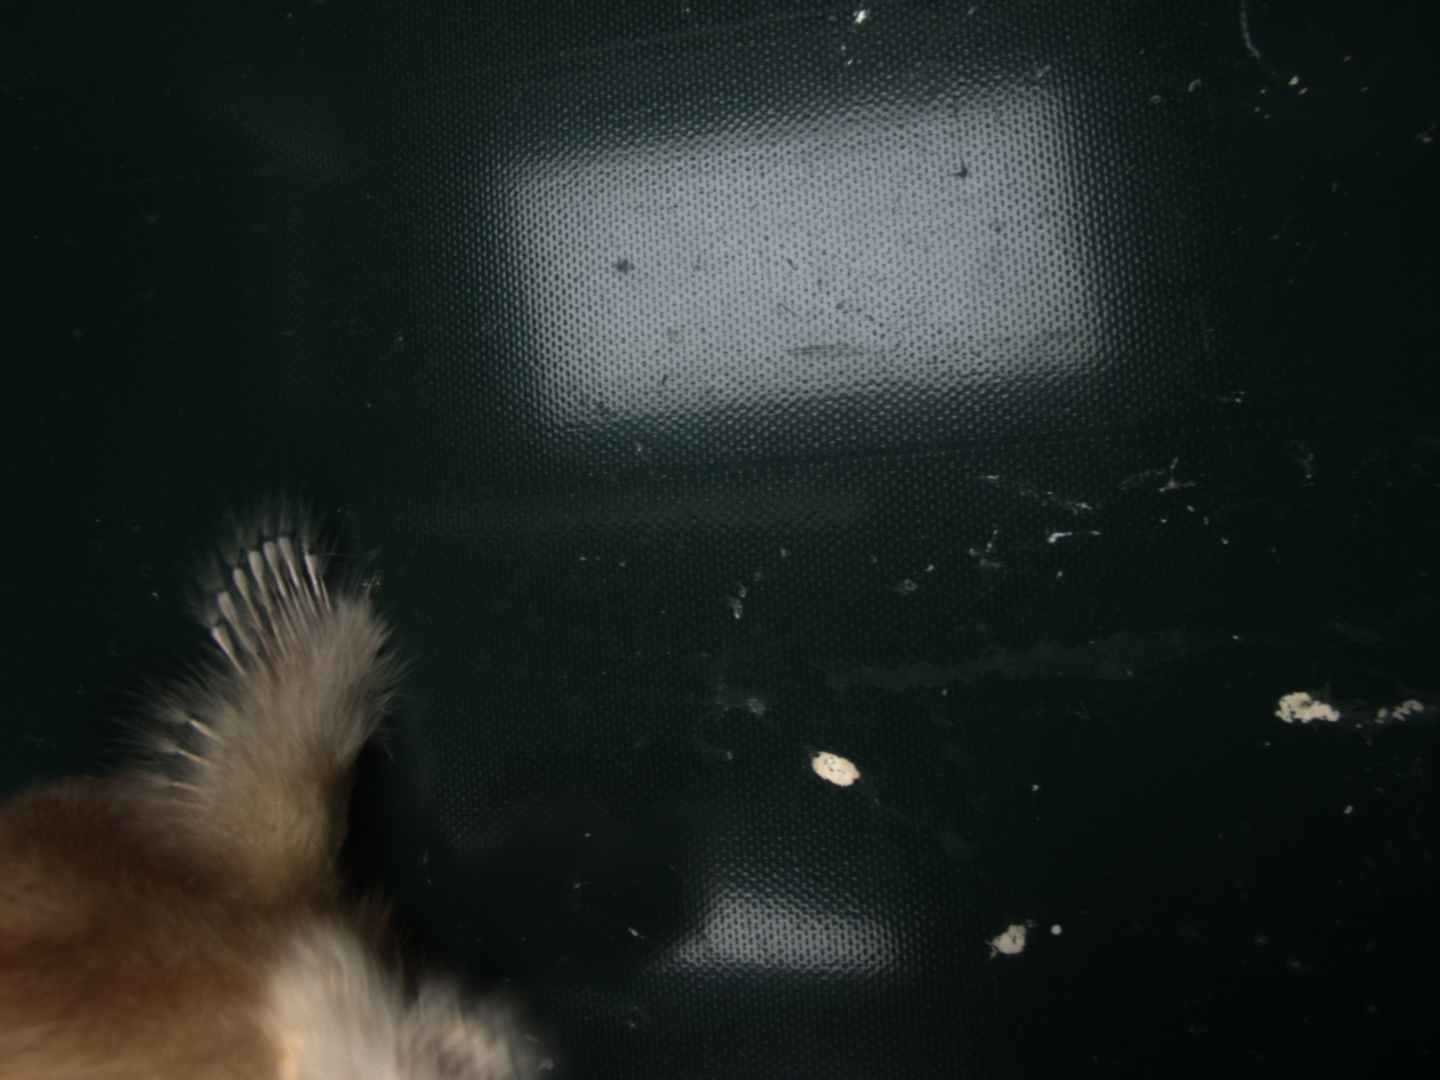female: (204, 533, 344, 675)
